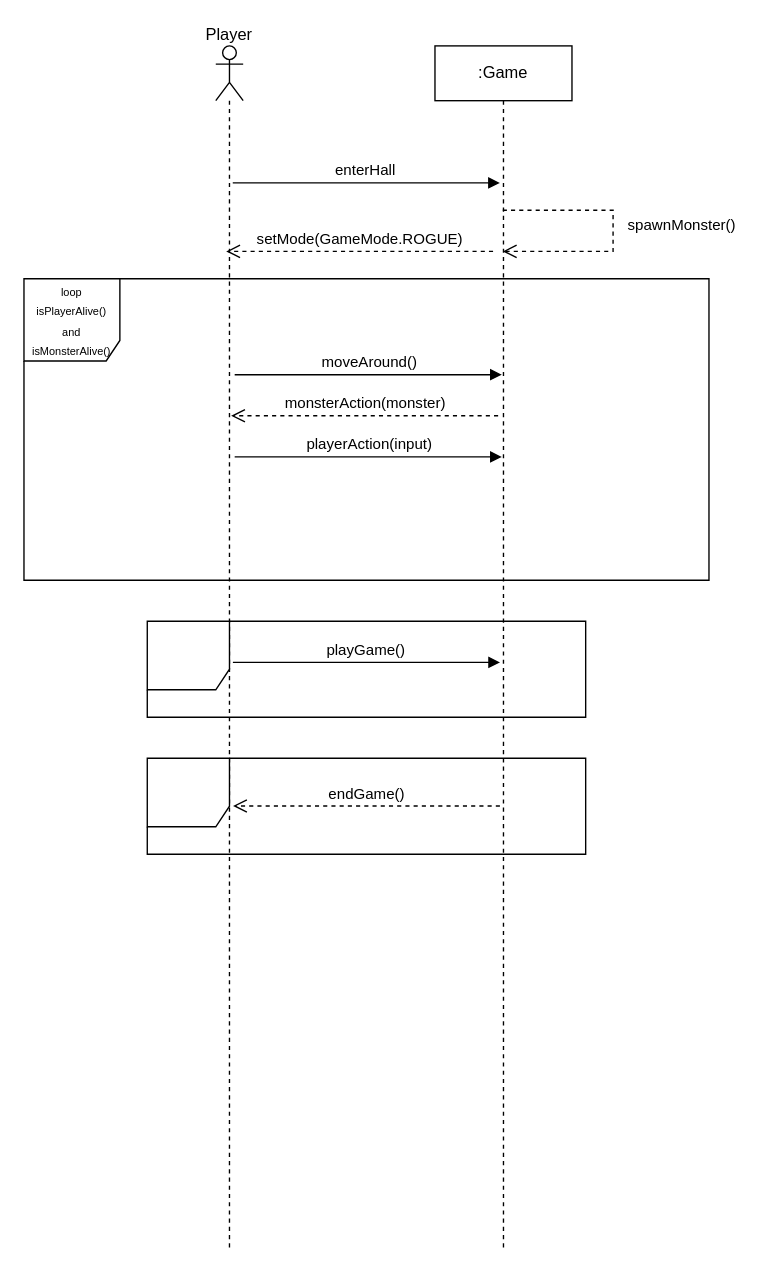
The diagram is 759 pixels wide and 1275 high, and some of its shapes have lost their labels. The centre of each missing label's shape, as x and y in pixels:
"if [isMonsterAlive()]" goes at point 366,805.
"if [isPlayerAlive()]" goes at point 366,668.
